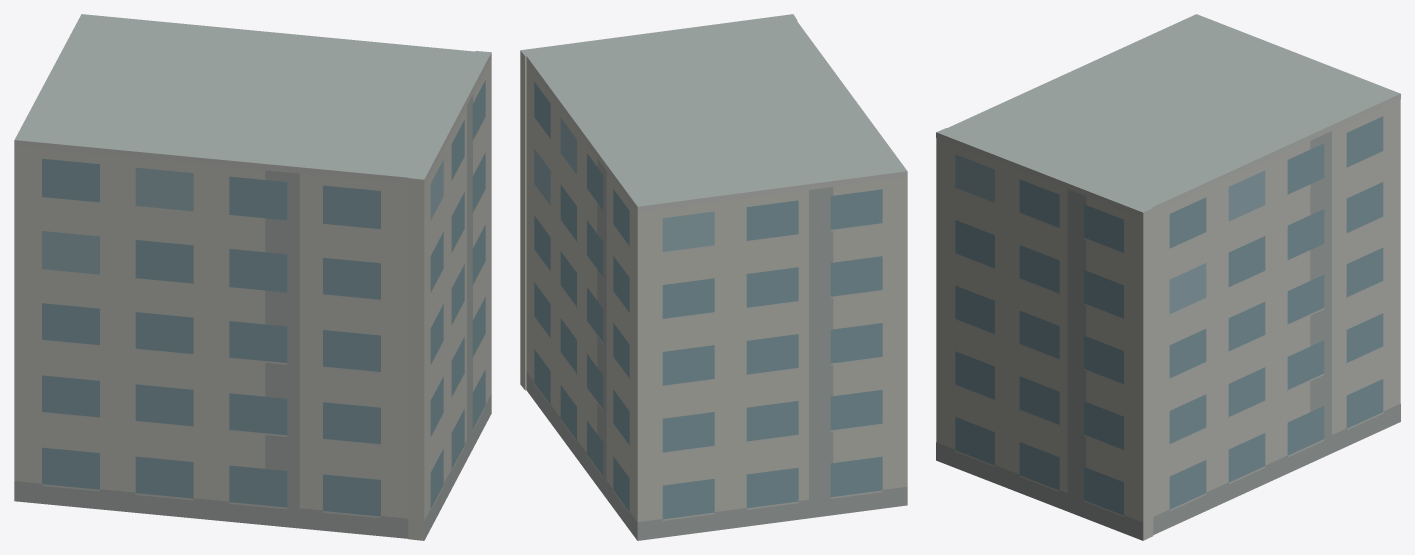
File: survey-upis-32892479.glb
3 views of the same model, side by side, from view 1: azimuth 30°, elevation 25°; view 2: azimuth 150°, elevation 25°; view 3: azimuth 270°, elevation 25° (orthographic). The views are drawn at different scales.
Parts seen in each view (by area): view 1: survey-upis-32892479.tmp; view 2: survey-upis-32892479.tmp; view 3: survey-upis-32892479.tmp.
Part boxes in pixels (x1=…): survey-upis-32892479.tmp: x1=14, y1=14, x2=491, y2=540; survey-upis-32892479.tmp: x1=520, y1=14, x2=907, y2=540; survey-upis-32892479.tmp: x1=936, y1=14, x2=1400, y2=540.
Bounding box in the file's own units: 17.79 × 13.7 × 17.58.
